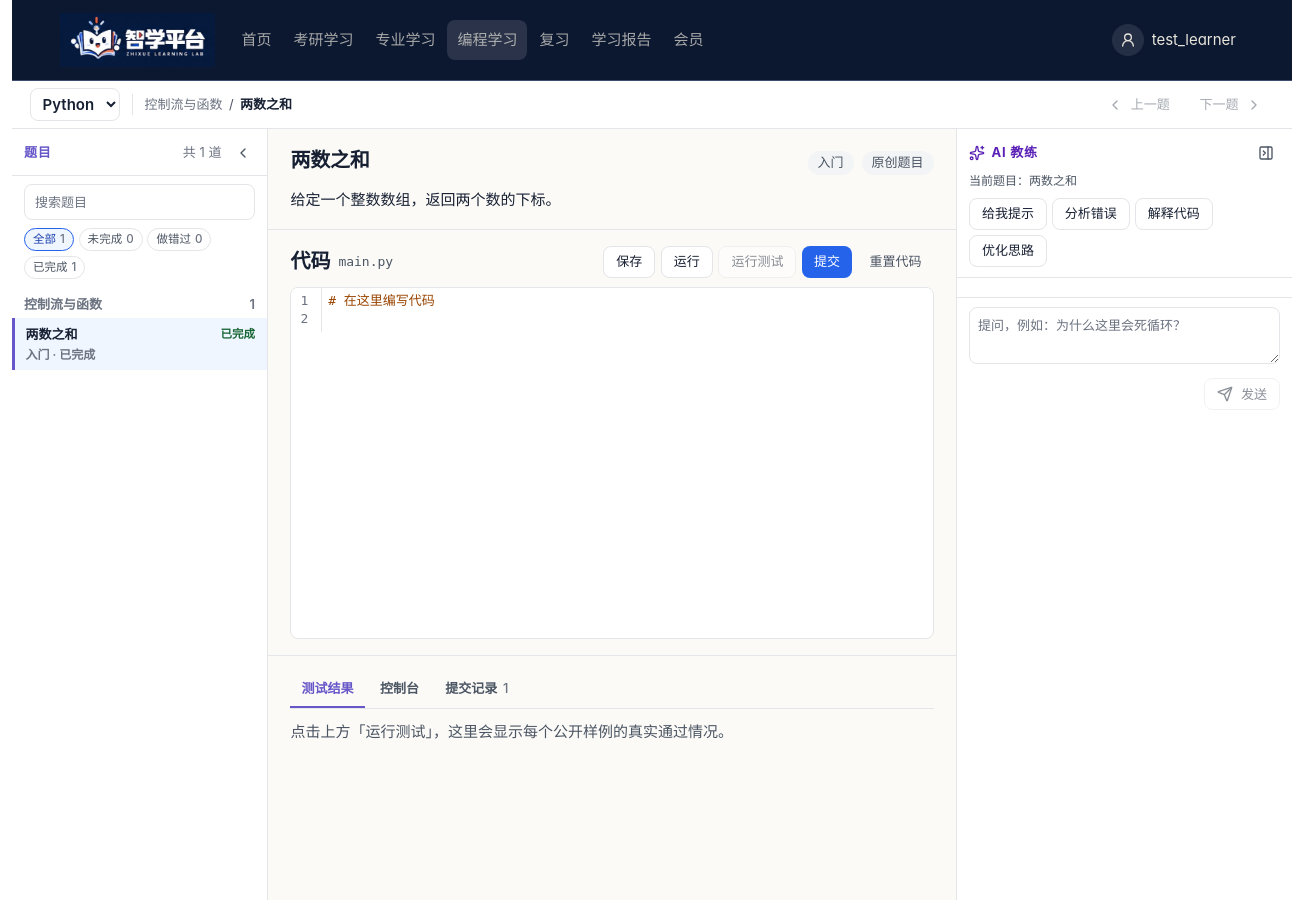
Scenario: LEARNER_METADATA_LEAKAGE_GUARD · Workbench AI coach › shows the settled credit cost in product language and never the request identity
Click the button "分析错误". click: (1091, 214)
box: 1052,198 -> 1130,230
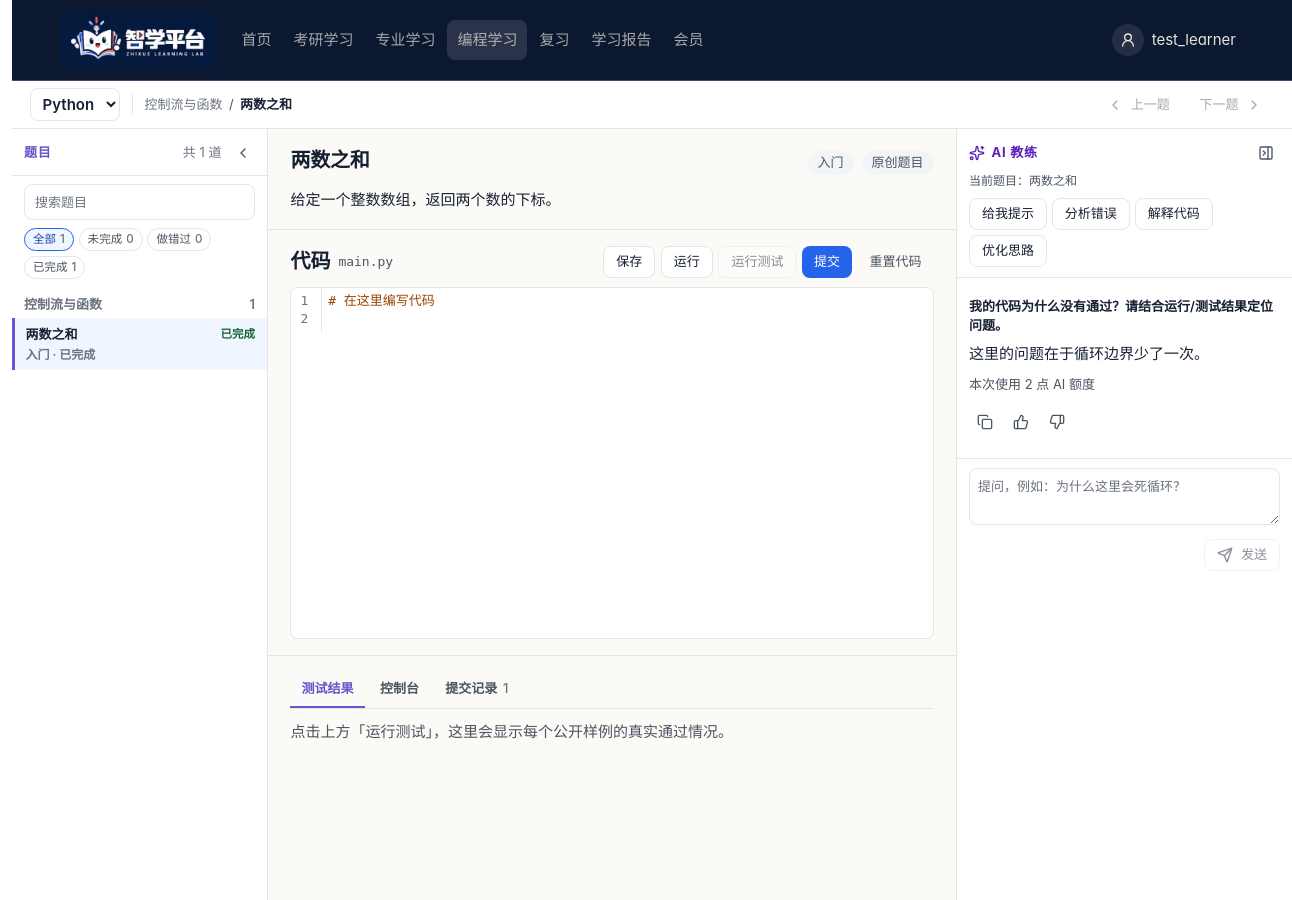
Now the text "这里的问题在于循环边界少了一次。" is shown, box 969,344 -> 1209,363
Now the text "本次使用 2 点 AI 额度" is shown, box 969,376 -> 1095,392
